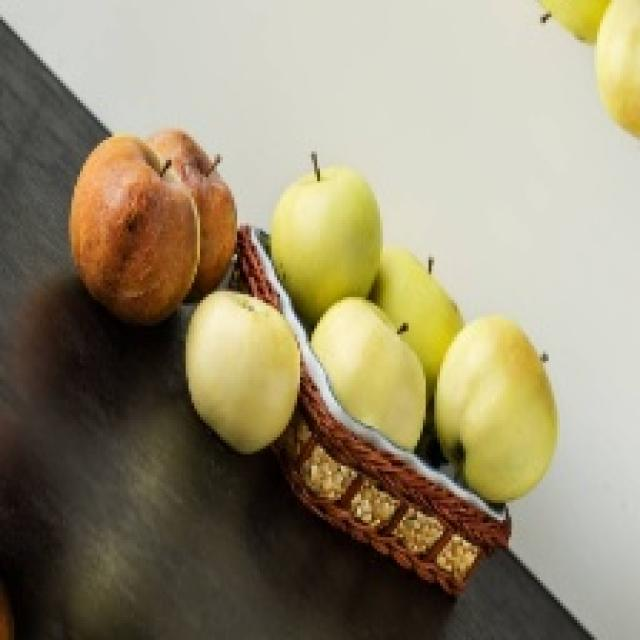rotten_apple: (71, 137, 196, 319), (188, 138, 236, 292)
